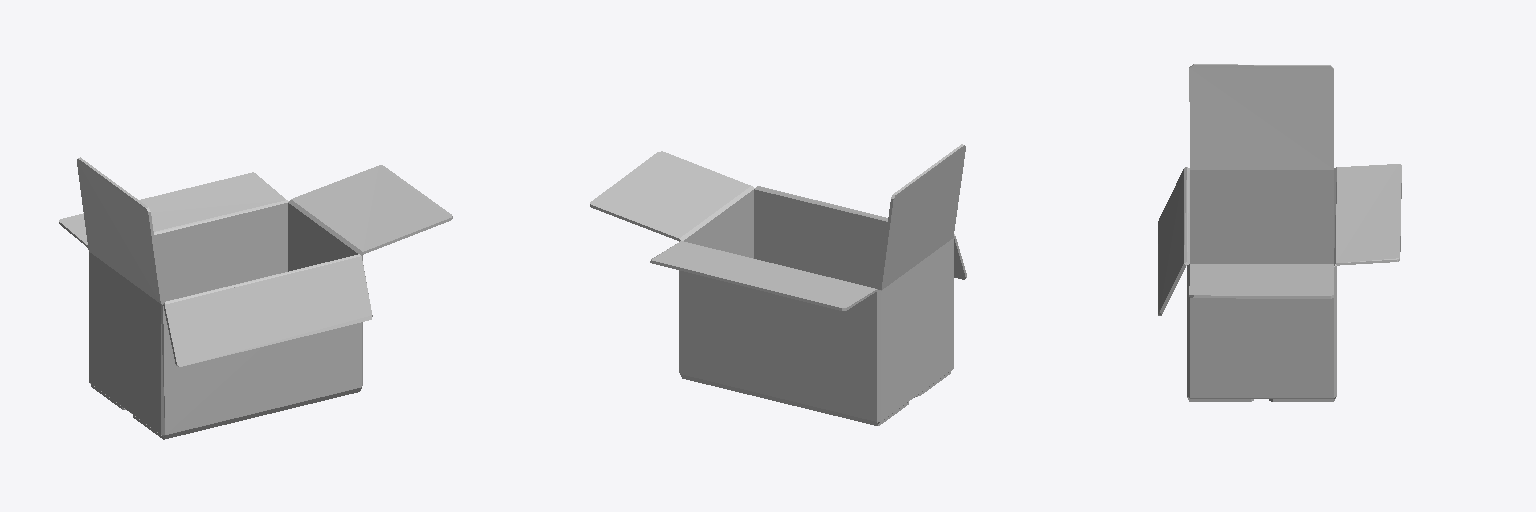
The picture shows the model from 3 angles: view 1: azimuth 30°, elevation 25°; view 2: azimuth 150°, elevation 25°; view 3: azimuth 270°, elevation 25°; orthographic projection.
Parts seen in each view (by area): view 1: group[number redacted]; view 2: group[number redacted]; view 3: group[number redacted].
Boxes of the visible parts, <box> form: group[number redacted]: <box>59,157,452,439</box>; group[number redacted]: <box>590,144,966,425</box>; group[number redacted]: <box>1158,64,1401,401</box>.
Size of the model in its own units: 1.15 by 0.8419 by 0.7949.